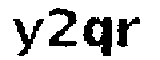2: (47, 6, 81, 49)
q: (83, 13, 115, 60)
r: (116, 13, 141, 50)
y: (11, 16, 45, 60)
